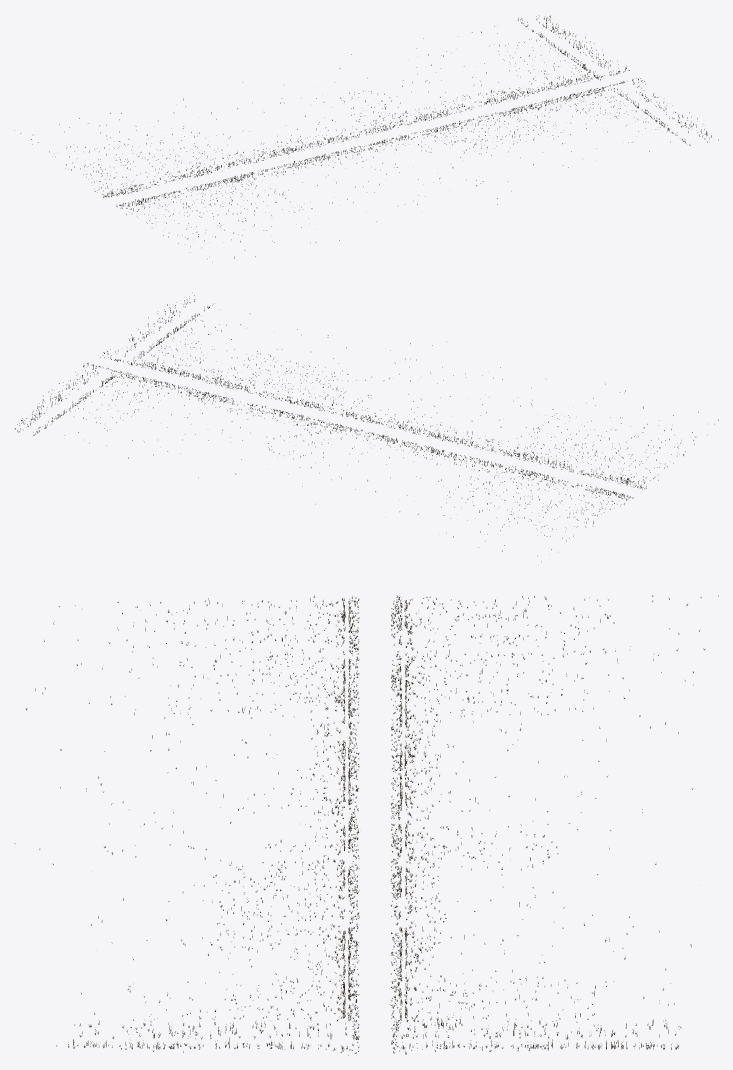
The model's file is env_road_growth.glb.
3 renders of one model, top to bottom at view 1: azimuth 30°, elevation 25°; view 2: azimuth 150°, elevation 25°; view 3: azimuth 270°, elevation 25°, orthographic. The views are drawn at different scales.
Parts seen in each view (by area): view 1: Growth162, Growth330, Growth204, Growth288, Growth246; view 2: Growth162, Growth330, Growth204, Growth288, Growth246; view 3: Growth162, Growth330, Growth204, Growth288, Growth246.
Part boxes in pixels (x1,y1,x2,y2): Growth162: (472, 15, 718, 151); Growth330: (14, 113, 274, 262); Growth204: (351, 38, 596, 181); Growth288: (158, 98, 377, 242); Growth246: (280, 68, 511, 204); Growth162: (14, 292, 250, 445); Growth330: (446, 406, 718, 561); Growth204: (128, 329, 390, 477); Growth288: (355, 379, 625, 515); Growth246: (235, 343, 500, 504); Growth162: (56, 960, 681, 1055); Growth330: (44, 595, 718, 690); Growth204: (91, 865, 691, 963); Growth288: (26, 684, 678, 780); Growth246: (14, 777, 692, 872).
Bounding box in the file's own units: 210 × 4.23 × 137.
